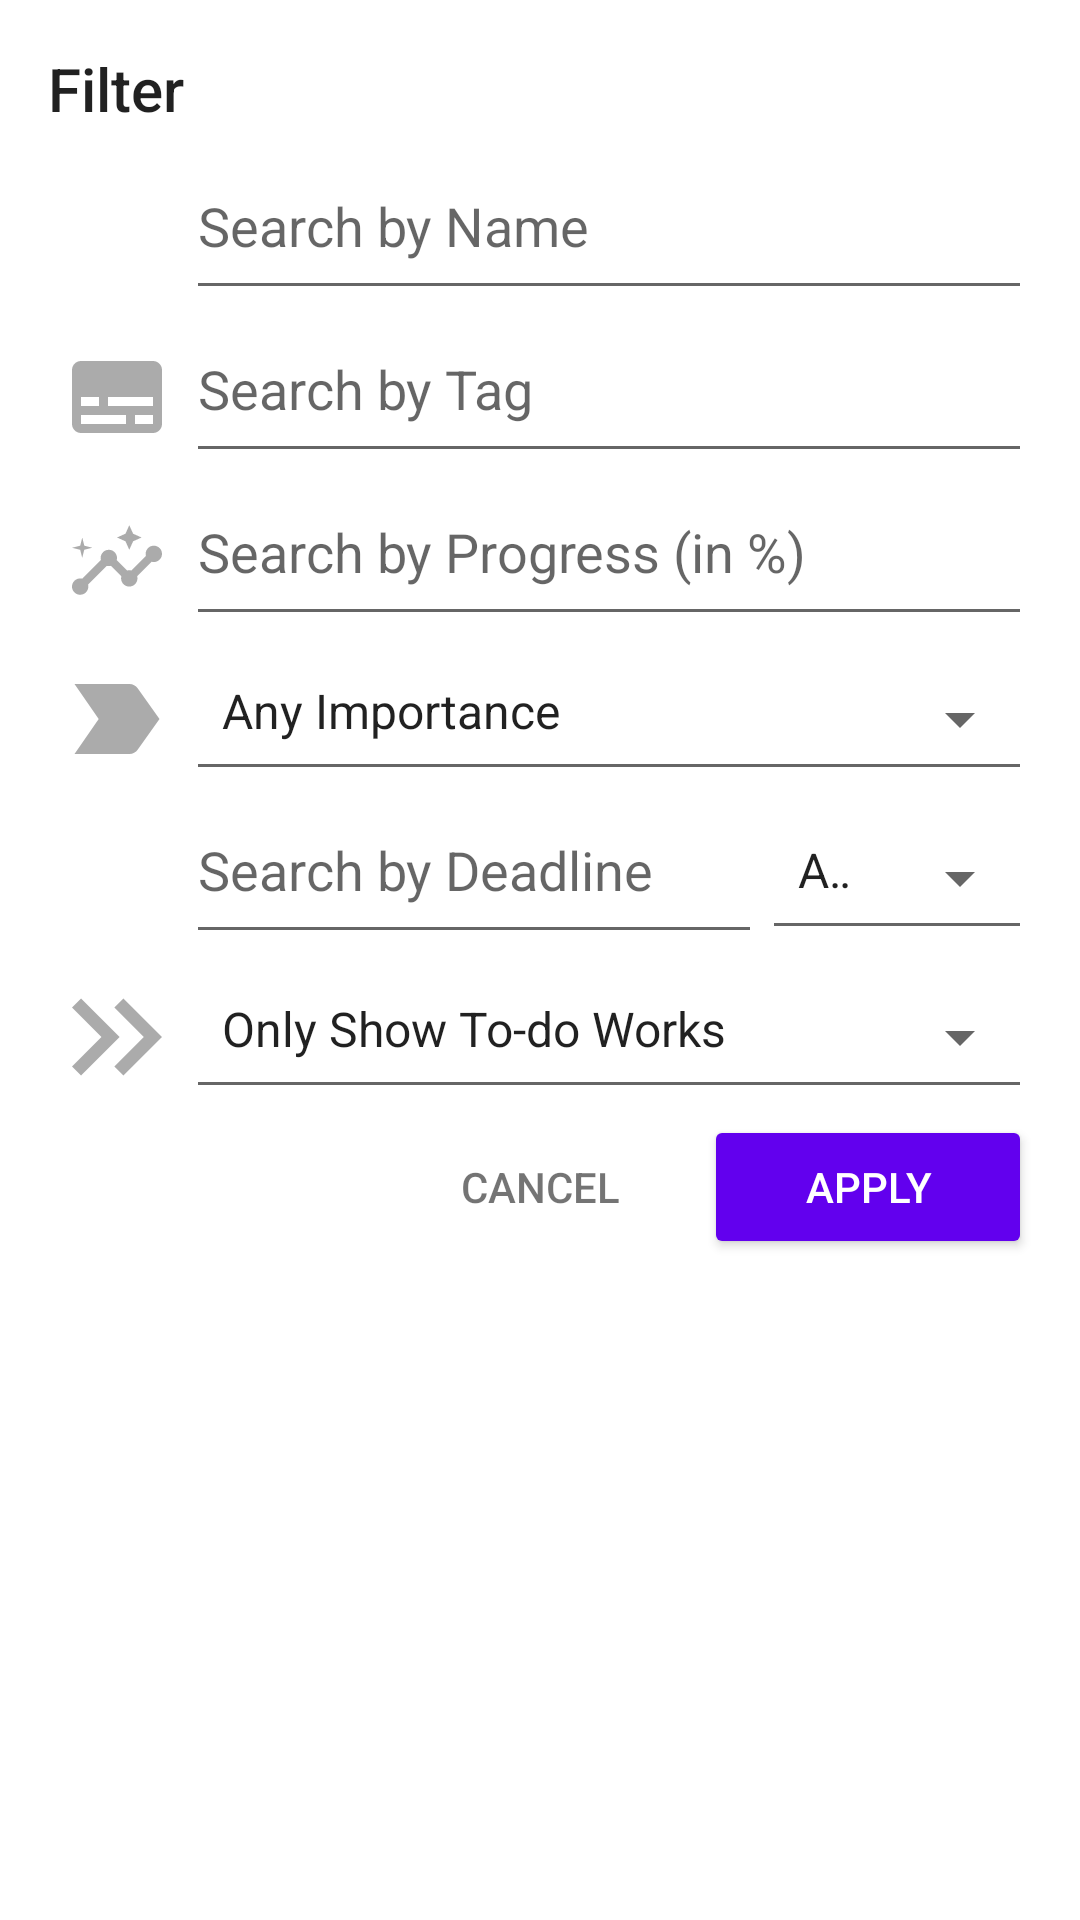

Named icons in this screenshot (1080w x 1920h) and their centers, [x,y]:
showall: [117,1037]
